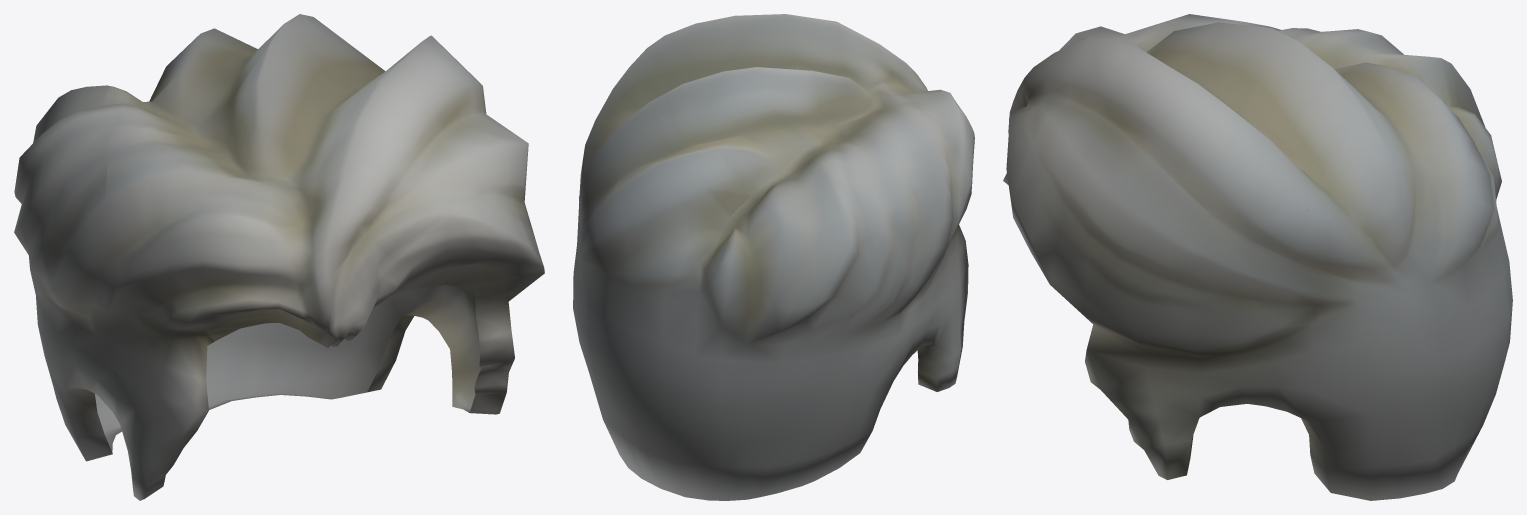
Rendered from Hair_SimpleParted.gltf.
3 views of the same model, side by side, from view 1: azimuth 30°, elevation 25°; view 2: azimuth 150°, elevation 25°; view 3: azimuth 270°, elevation 25° (orthographic). The views are drawn at different scales.
Parts seen in each view (by area): view 1: Hair_SimpleParted; view 2: Hair_SimpleParted; view 3: Hair_SimpleParted.
Boxes of the visible parts, x1,y1,x2,y2 form: Hair_SimpleParted: (14, 14, 544, 500); Hair_SimpleParted: (573, 14, 974, 500); Hair_SimpleParted: (1003, 14, 1512, 500).
Bounding box in the file's own units: 0.1754 × 0.1792 × 0.1869.
Materials: 1 (1 with a texture image).
